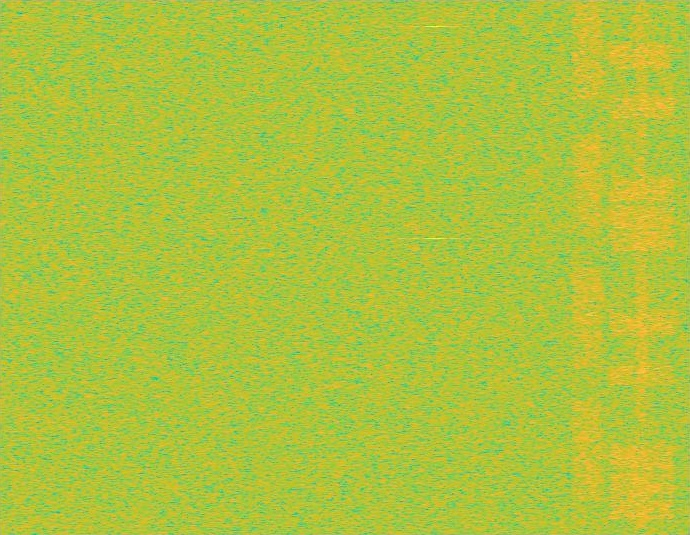5G: (571, 0, 605, 534)
DSSS: (634, 0, 650, 534)
LTE: (607, 0, 676, 534)
Radar: (428, 0, 442, 534)
